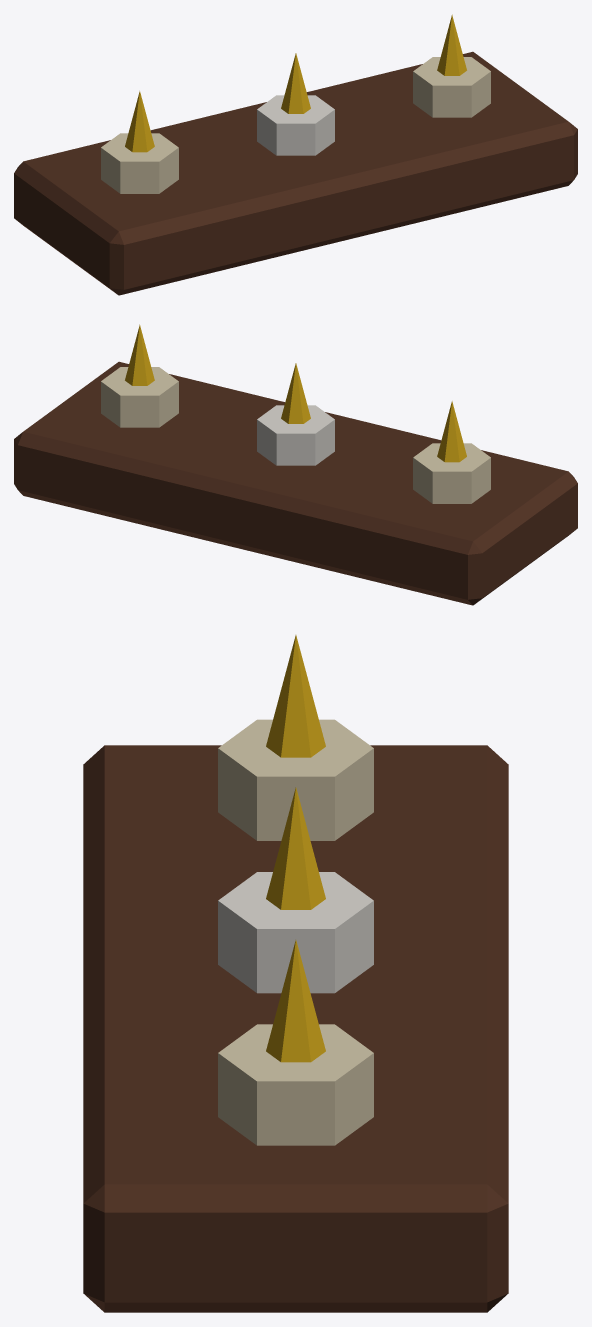
The model's file is candle-holder-48.glb.
3 views of the same model, one above another, from view 1: azimuth 30°, elevation 25°; view 2: azimuth 150°, elevation 25°; view 3: azimuth 270°, elevation 25° (orthographic). The views are drawn at different scales.
Parts seen in each view (by area): view 1: candle_holder_48; view 2: candle_holder_48; view 3: candle_holder_48.
Boxes of the visible parts, bbox=[...] form: candle_holder_48: bbox=[14, 14, 577, 295]; candle_holder_48: bbox=[14, 324, 577, 605]; candle_holder_48: bbox=[83, 635, 508, 1312].
Bounding box in the file's own units: 0.3053 × 0.0955 × 0.12.
